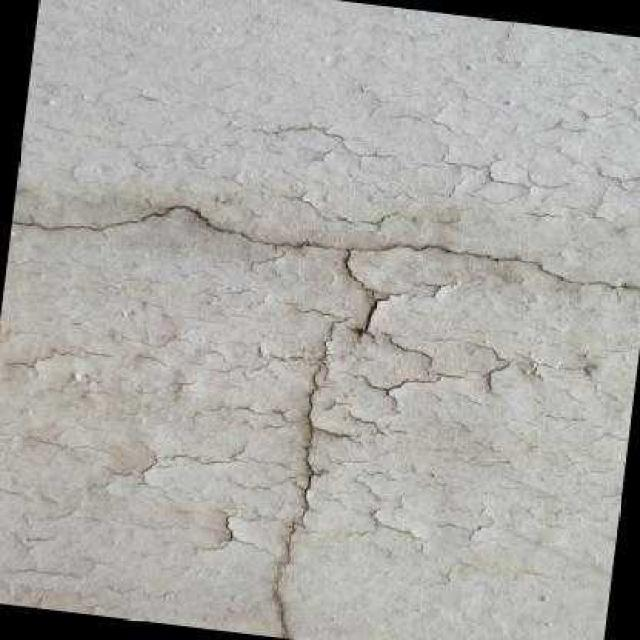D00: (9, 199, 640, 349), (263, 309, 352, 639)
